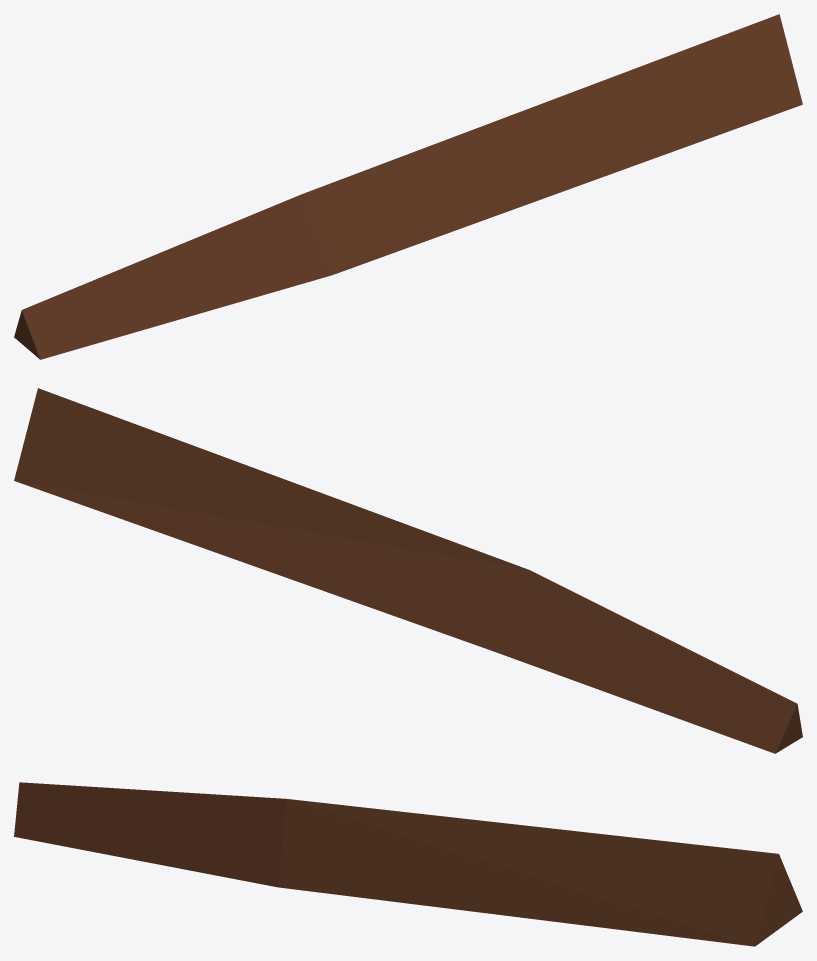
Rendered from PineBranch4.fbx.
3 views of the same model, one above another, from view 1: azimuth 30°, elevation 25°; view 2: azimuth 150°, elevation 25°; view 3: azimuth 330°, elevation 25° (orthographic). The views are drawn at different scales.
Visible parts, largest first — view 1: PineBranch4; view 2: PineBranch4; view 3: PineBranch4.
Boxes of the visible parts, x1,y1,x2,y2 form: PineBranch4: (14, 14, 802, 359); PineBranch4: (14, 388, 802, 753); PineBranch4: (14, 782, 802, 946).
Bounding box in the file's own units: 111 × 22.83 × 11.95.
